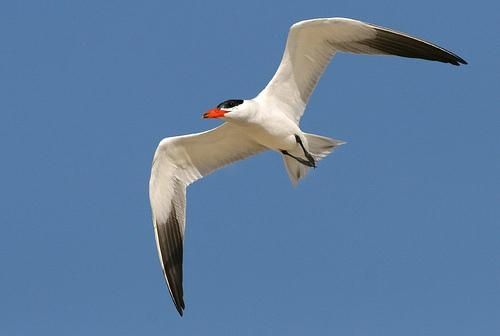bird: (148, 16, 469, 320)
